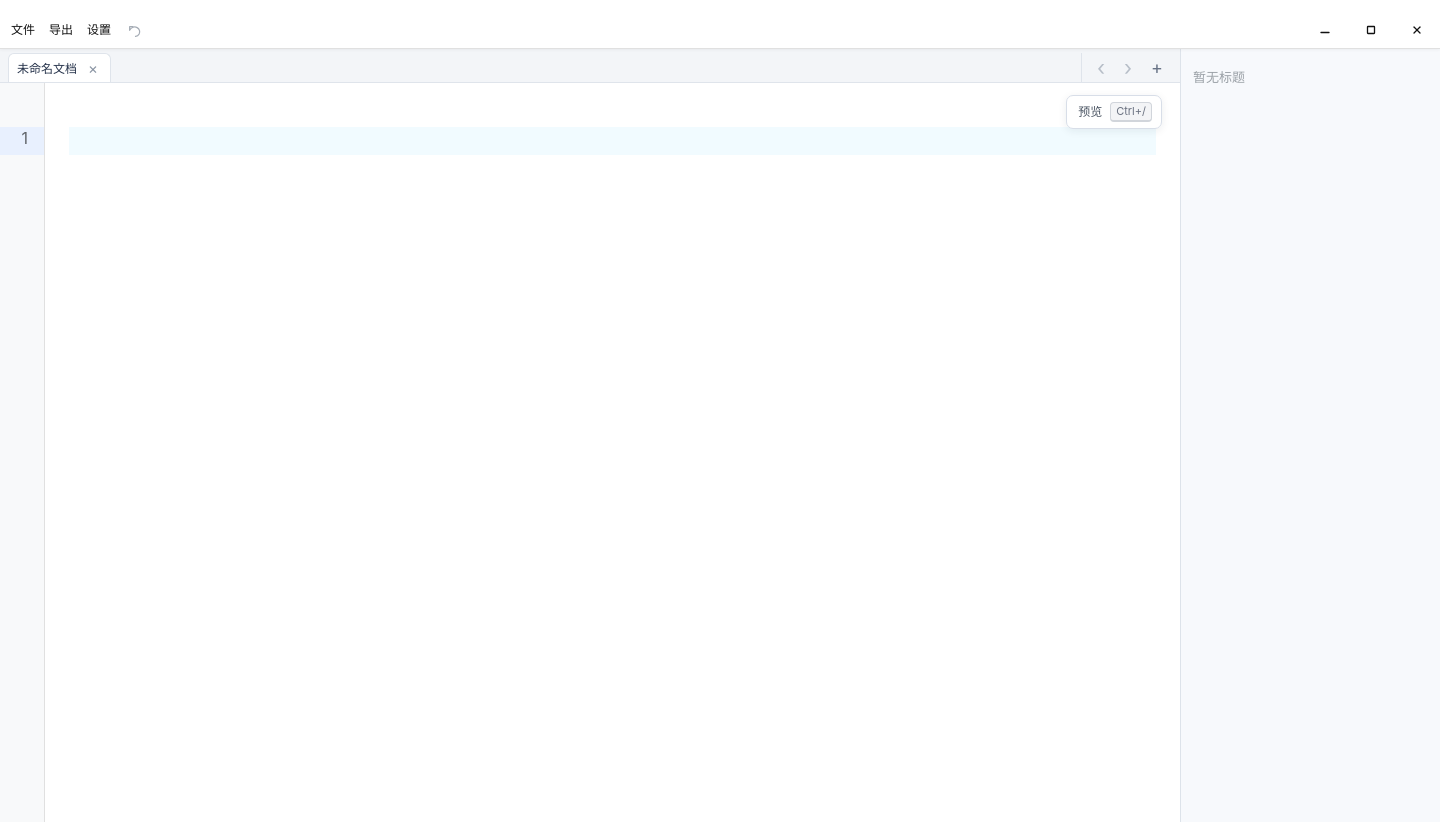
Test: App › switches to another open tab when its tab is clicked
The image size is (1452, 822).
Click the button with class "menu-trigger" showing "文件": (23, 30) [4,12,42,48]
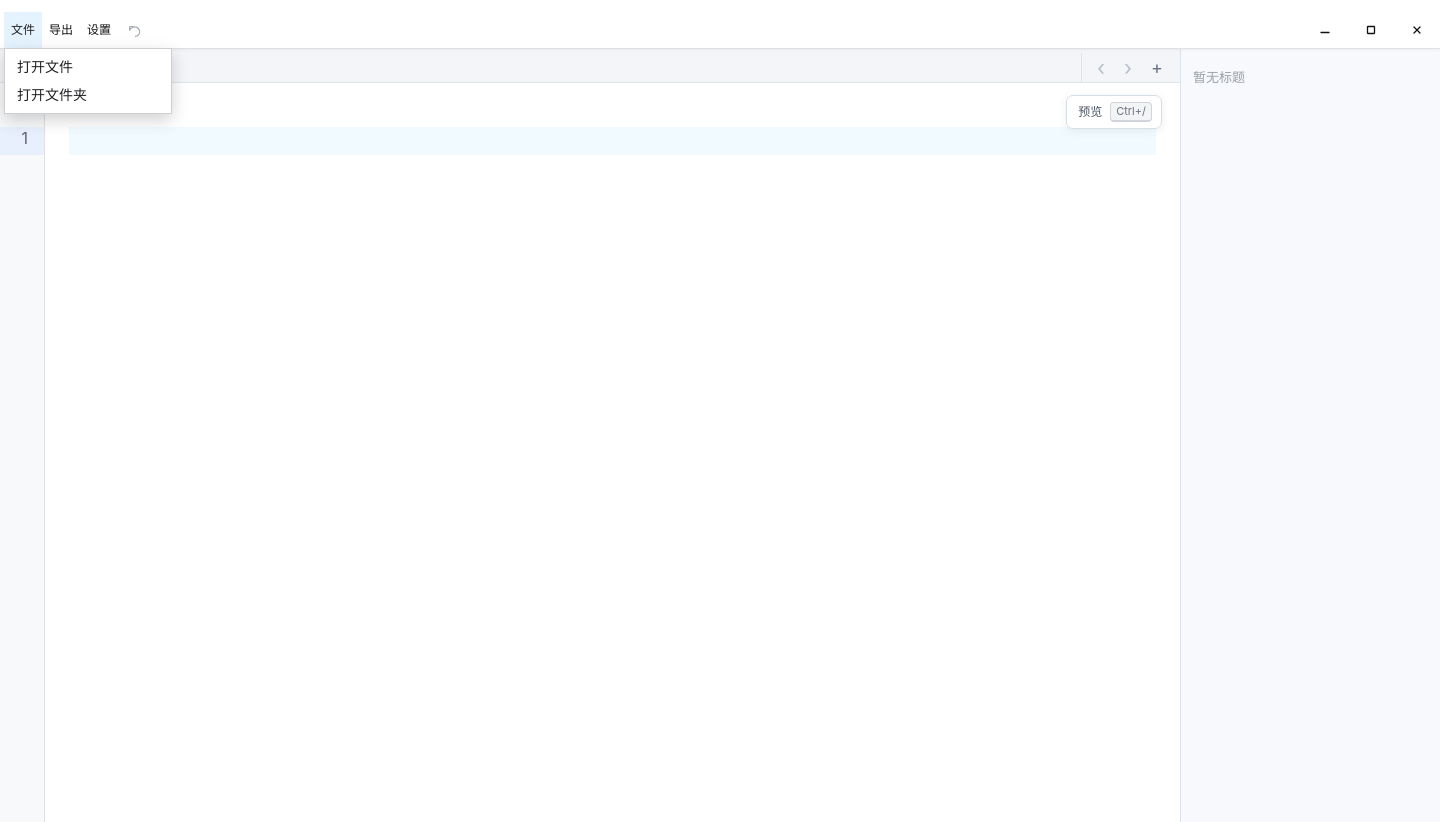
Click the menu item "打开文件": (88, 67) [5,53,171,81]
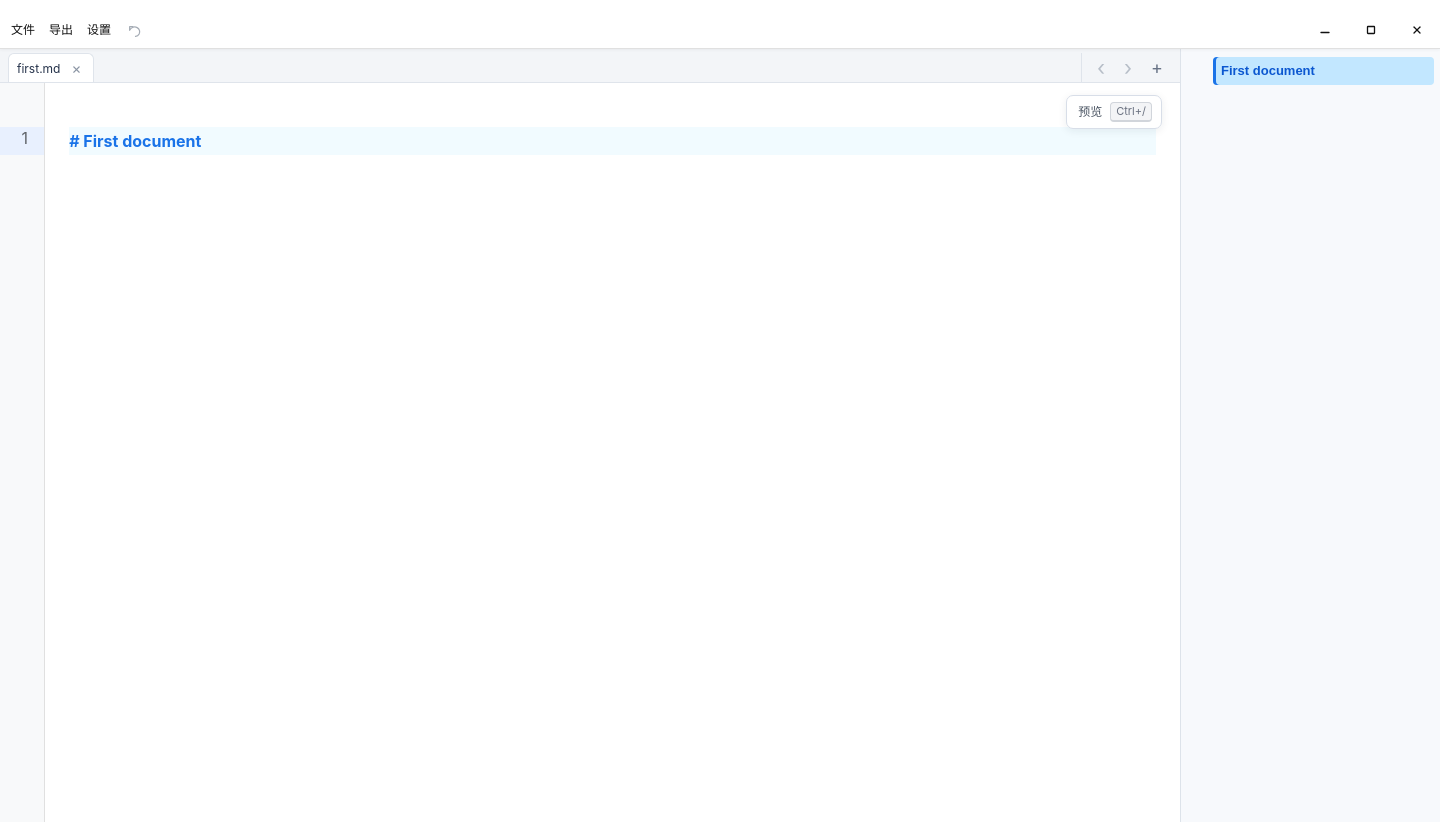
Expected: the element with test id "editor-container" shows "First document", [80,131,201,151]
Click the button with class "menu-trigger" showing "文件": (23, 30) [4,12,42,48]
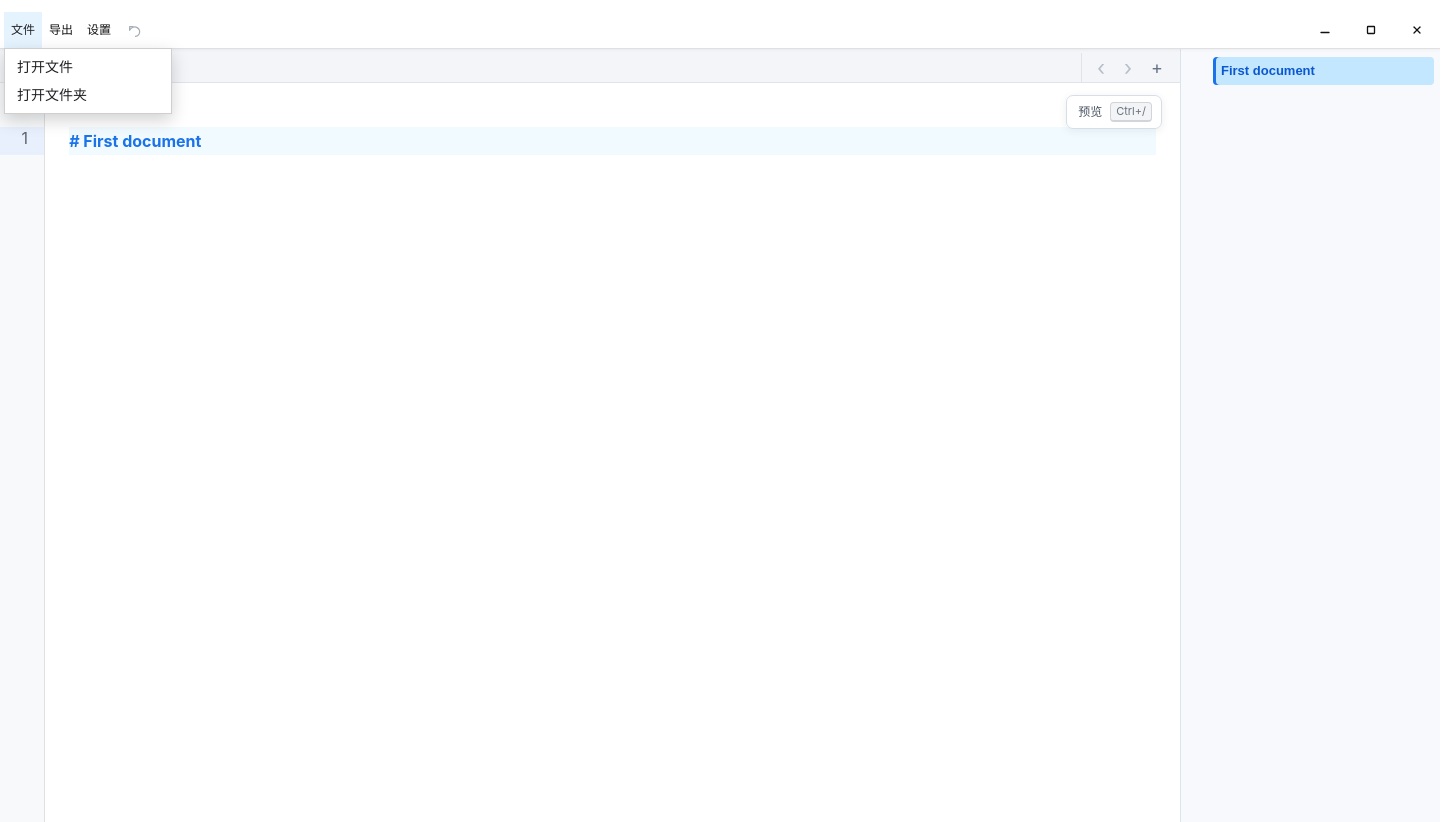
Click the menu item "打开文件": (88, 67) [5,53,171,81]
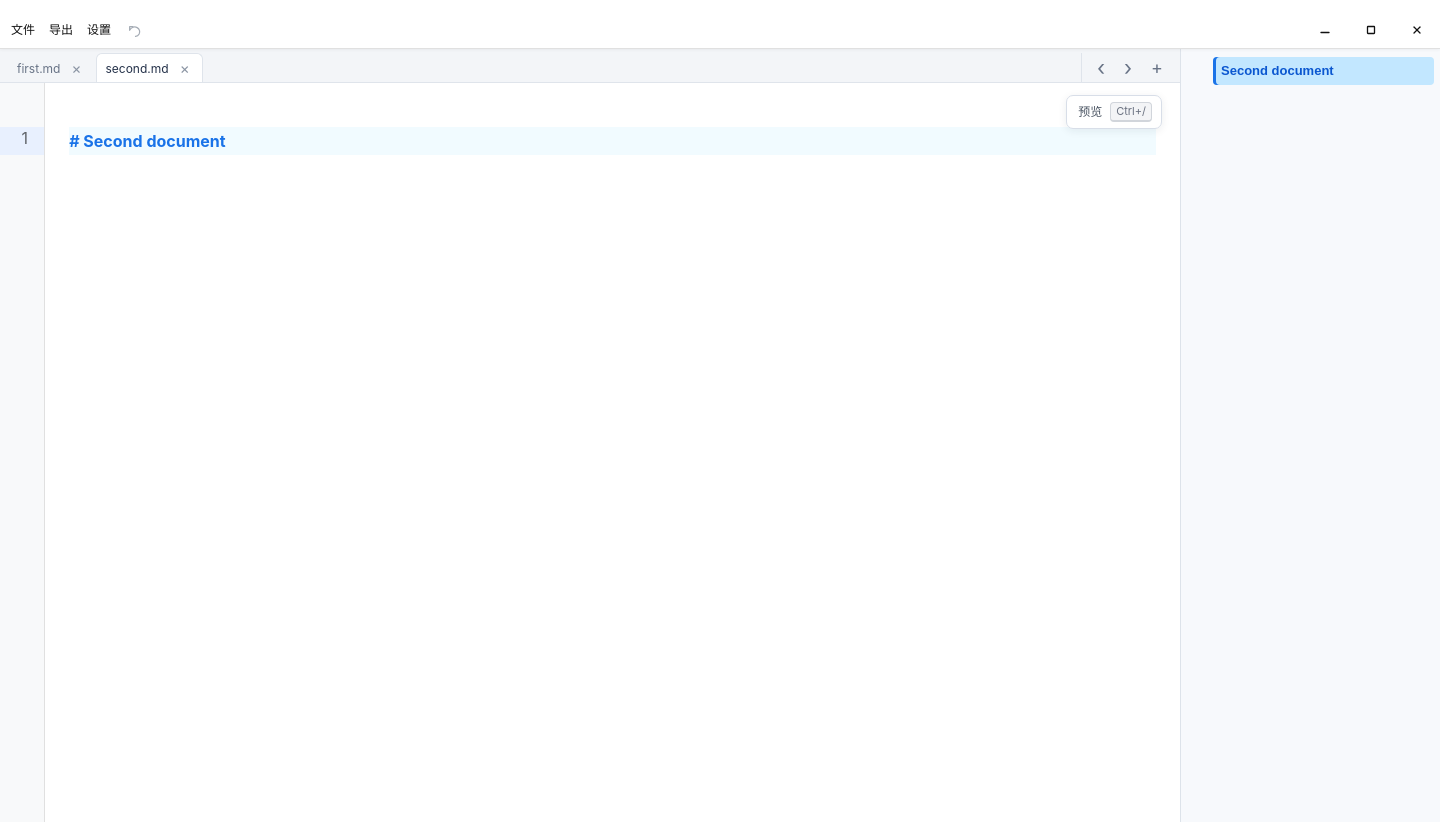
Expected: the number of tabs is 2
Expected: the element with test id "editor-container" shows "Second document", [80,131,226,151]
Click the tab "first.md ×": (49, 68) [17,59,81,78]
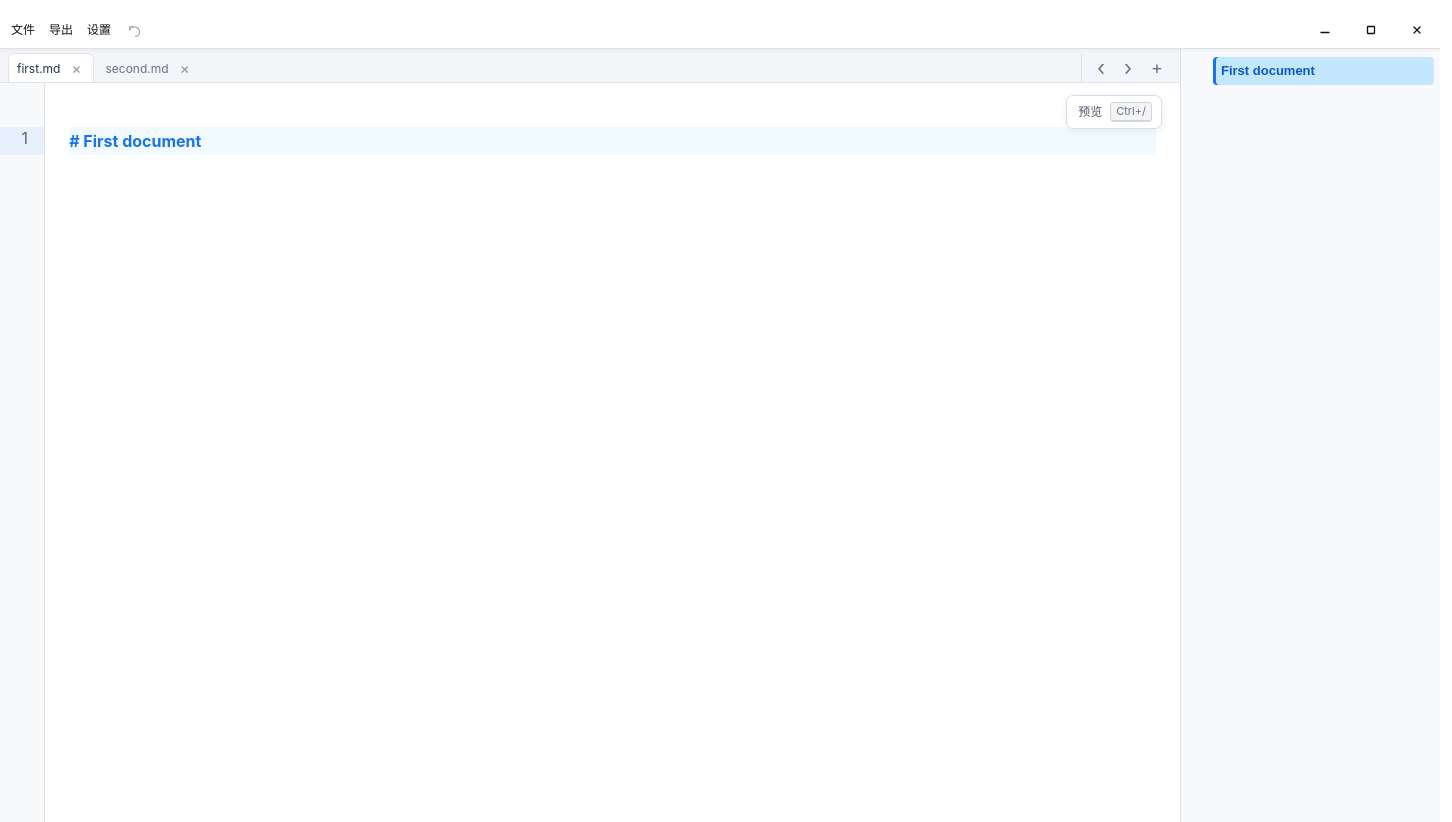
Expected: the element with test id "editor-container" shows "First document", [80,131,201,151]
